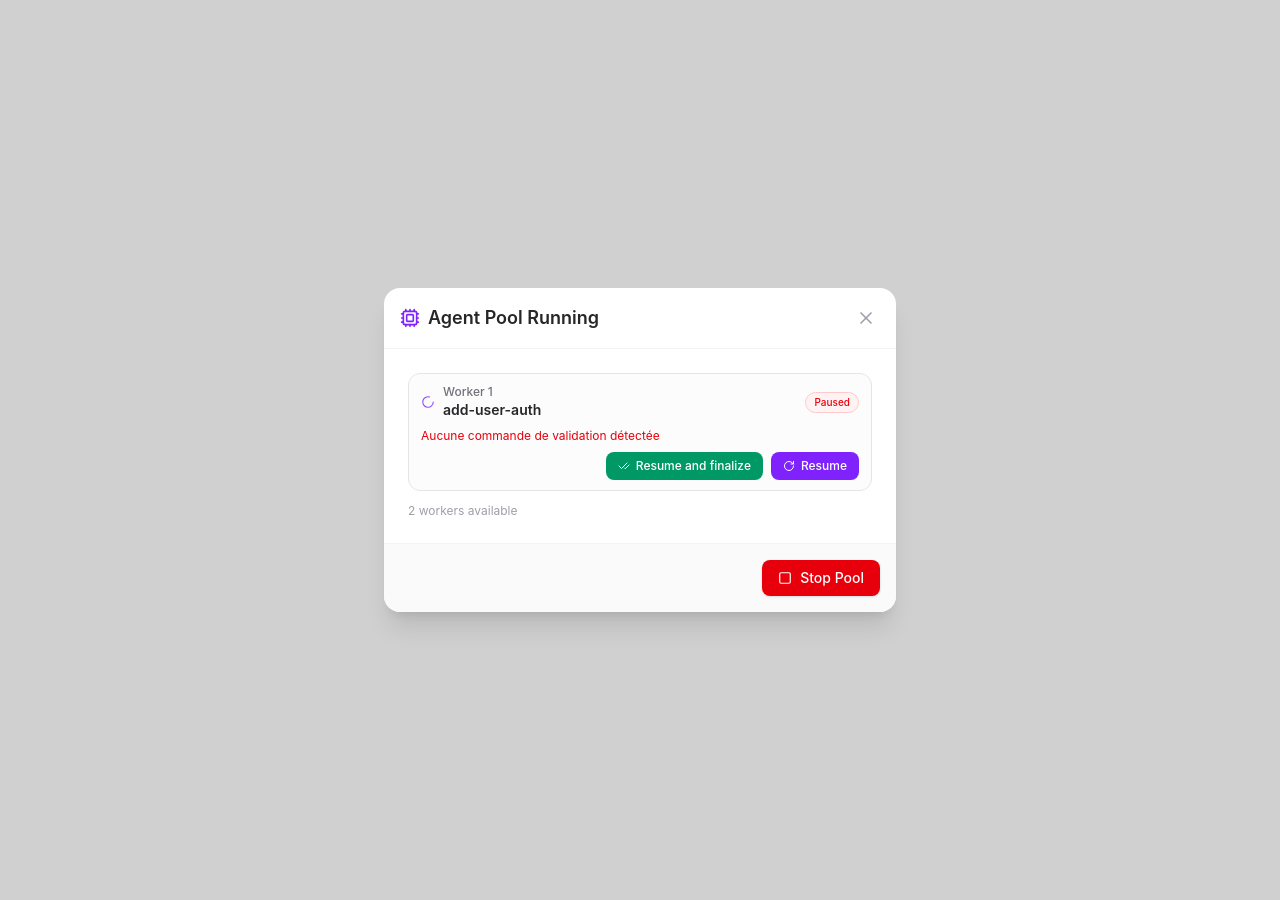
AgentPoolModal resume › blocks a double request on both buttons while one is pending
The image size is (1280, 900).
Click the button "Resume and finalize".
click(684, 466)  # box [606,452,763,480]
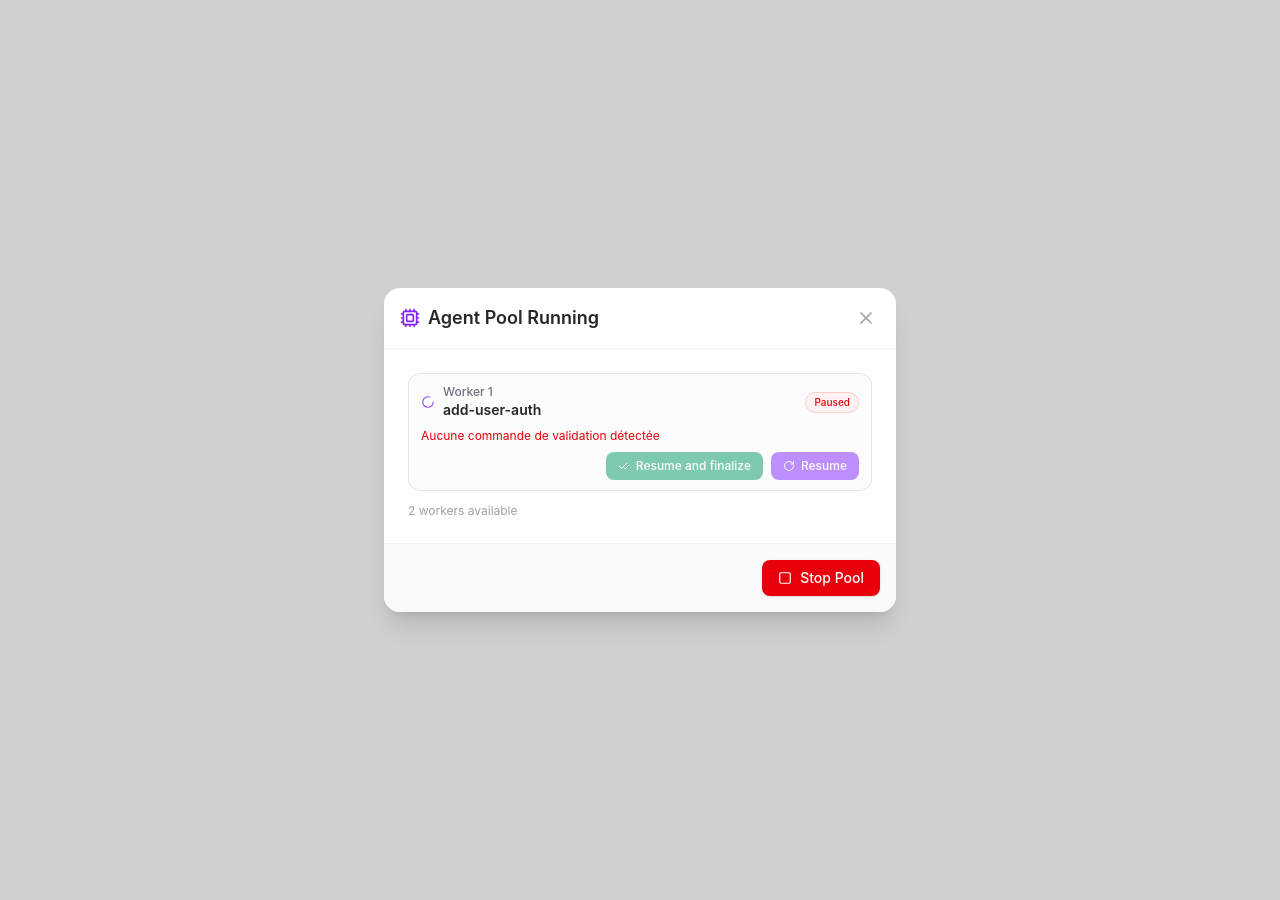
Expected: the button "Resume" is disabled, [771,452,859,480]
Expected: the button "Resume and finalize" is disabled, [606,452,763,480]
